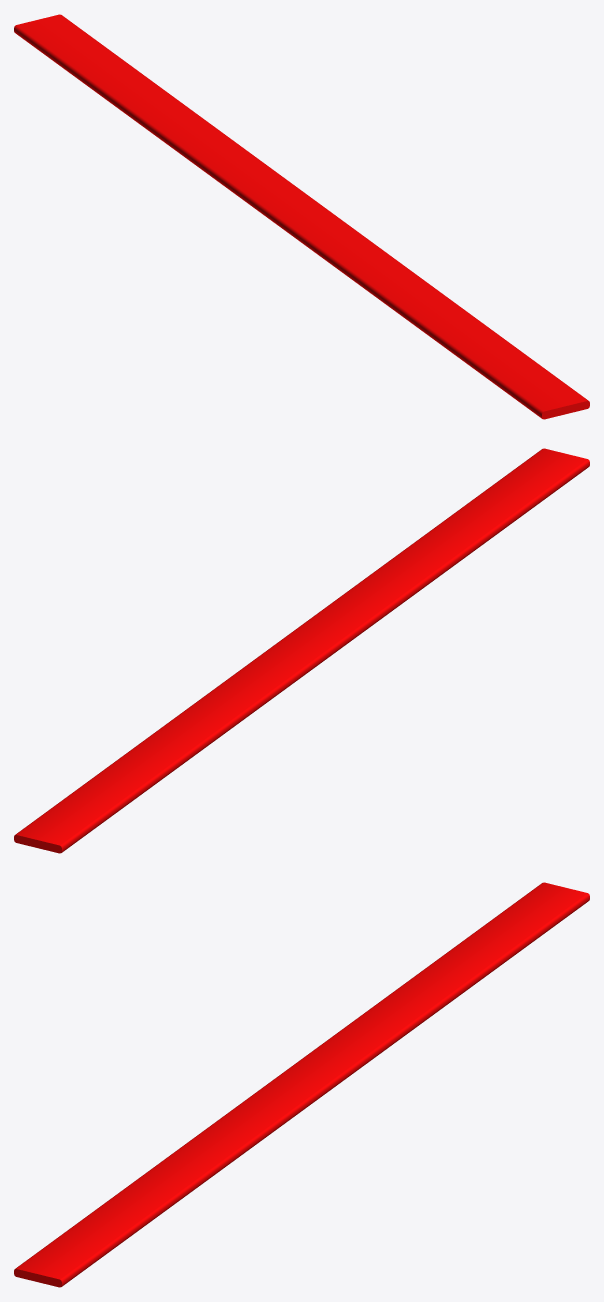
The model's file is 223_TAIL.glb.
3 views of the same model, one above another, from view 1: azimuth 30°, elevation 25°; view 2: azimuth 150°, elevation 25°; view 3: azimuth 330°, elevation 25° (orthographic).
Visible parts, largest first — view 1: obj2; view 2: obj2; view 3: obj2.
Boxes of the visible parts, x1,y1,x2,y2 form: obj2: (14,14,589,419); obj2: (14,448,589,853); obj2: (14,882,589,1287).
Size of the model in its own units: 0.7882 by 0.1262 by 15.
Materials: 1 (1 with a texture image).
